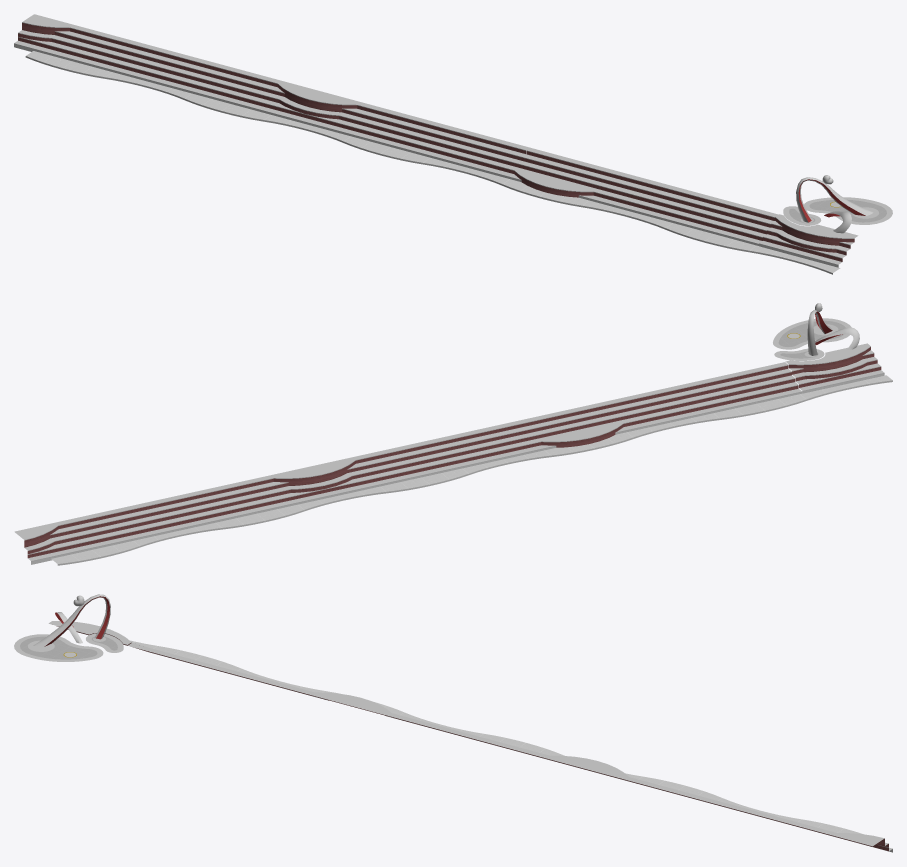
The model's file is 광안리계단구조.fbx.
3 renders of one model, top to bottom at view 1: azimuth 90°, elevation 25°; view 2: azimuth 150°, elevation 25°; view 3: azimuth 270°, elevation 25°, orthographic.
Parts seen in each view (by area): view 1: Group_116220, Group_116222, Group_116224, 해변_나무테크_2, 해변_나무테크_1, Group_160622, Group_160624, 해변_나무테크_4, 해변_나무테크_부속_1_32, 해변_나무테크_부속_1_35, 해변_나무테크_부속_1_33, 해변_나무테크_부속_1_34 (+7 smaller); view 2: Group_116220, Group_116222, Group_116224, 해변_나무테크_2, 해변_나무테크_1, Group_160622, Group_160624, 해변_나무테크_4, 해변_나무테크_부속_1_32, 해변_나무테크_부속_1_33, 해변_나무테크_부속_1_34, 해변_나무테크_부속_1_35 (+6 smaller); view 3: Group_160624, Group_116220, Group_116224, Group_116222, 해변_나무테크_1, Group_160594, 해변_나무테크_2, 해변_나무테크_부속_1_32, 해변_나무테크_4, Group_160622.
Part boxes in pixels (x1,y1,x2,y2): Group_116220: [53, 25, 281, 112]; Group_116222: [341, 102, 529, 178]; Group_116224: [589, 169, 778, 245]; 해변_나무테크_2: [510, 147, 609, 200]; 해변_나무테크_1: [261, 81, 360, 133]; Group_160622: [759, 214, 858, 267]; Group_160624: [783, 197, 892, 225]; 해변_나무테크_4: [14, 14, 73, 56]; 해변_나무테크_부속_1_32: [665, 223, 756, 252]; 해변_나무테크_부속_1_35: [343, 136, 430, 164]; 해변_나무테크_부속_1_33: [25, 51, 112, 78]; 해변_나무테크_부속_1_34: [184, 93, 271, 121]; Group_116220: [55, 475, 287, 554]; Group_116222: [352, 418, 544, 488]; Group_116224: [610, 362, 802, 431]; 해변_나무테크_2: [528, 400, 626, 450]; 해변_나무테크_1: [270, 457, 369, 506]; Group_160622: [785, 343, 884, 393]; Group_160624: [773, 318, 851, 360]; 해변_나무테크_4: [14, 522, 72, 564]; 해변_나무테크_부속_1_32: [714, 394, 806, 419]; 해변_나무테크_부속_1_33: [51, 541, 139, 565]; 해변_나무테크_부속_1_34: [216, 504, 304, 529]; 해변_나무테크_부속_1_35: [380, 468, 468, 493]; Group_160624: [14, 633, 123, 661]; Group_116220: [625, 777, 852, 841]; Group_116224: [128, 643, 316, 697]; Group_116222: [377, 710, 564, 764]; 해변_나무테크_1: [546, 755, 644, 785]; Group_160594: [33, 594, 110, 646]; 해변_나무테크_2: [297, 688, 396, 718]; 해변_나무테크_부속_1_32: [153, 646, 240, 671]; 해변_나무테크_4: [833, 833, 892, 852]; Group_160622: [48, 621, 143, 646].
Size of the model in its own units: 3934 by 491 by 6063.
